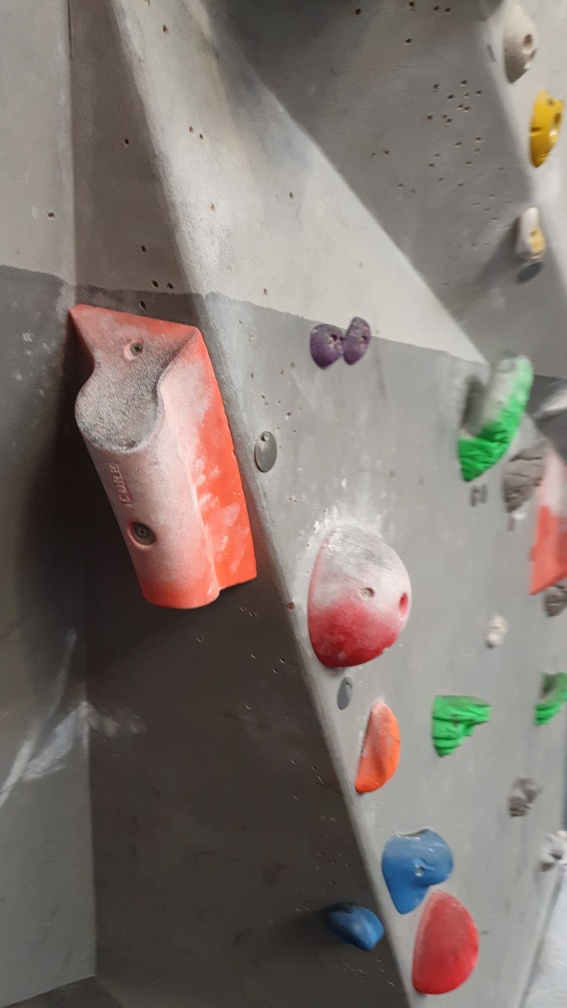Hand Start: (254, 425, 286, 478), (332, 671, 357, 712)
Jug: (457, 354, 537, 477), (427, 688, 499, 757), (532, 663, 567, 720)
Pinch: (63, 302, 260, 615)
Sloper: (300, 519, 413, 670), (398, 886, 488, 996)
